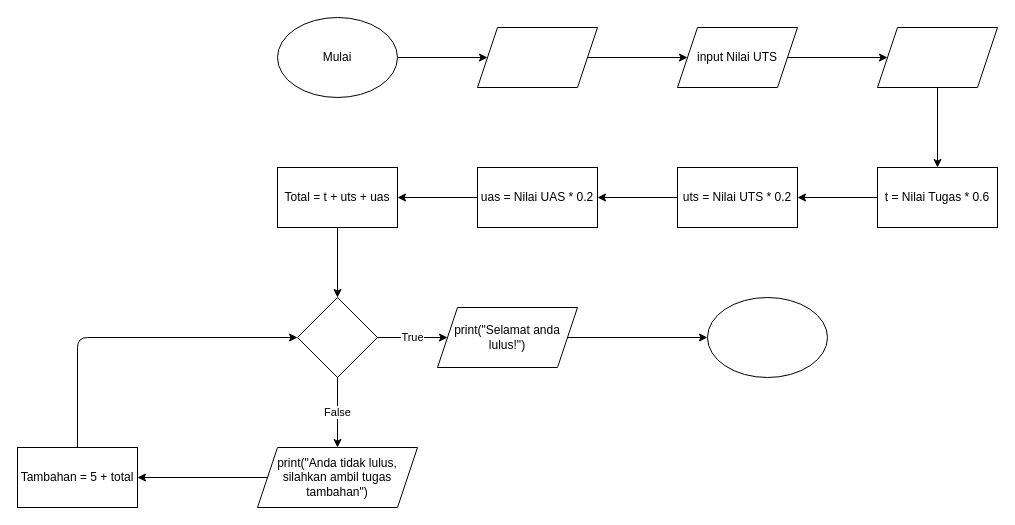
This 1015x525 diagram has some shape labels left out. The shapes that lost their labels are listed below. From the top down, each one's box as (x1, y1, x2, y2) in pixels, then its label:
(476, 26, 598, 88): Input Nilai Tugas
(876, 26, 998, 88): Input Nilai UAS
(296, 296, 378, 378): Total >= 70
(706, 296, 828, 378): Selesai
